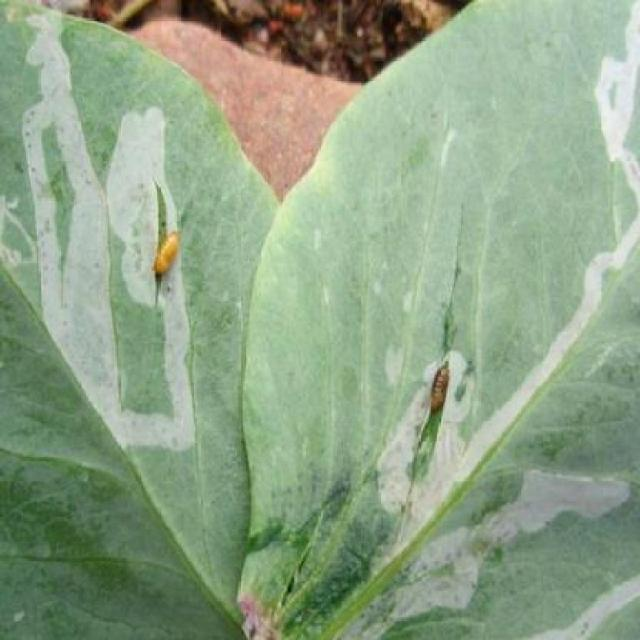whorl-maggot: (429, 351, 456, 424), (152, 222, 182, 287)
